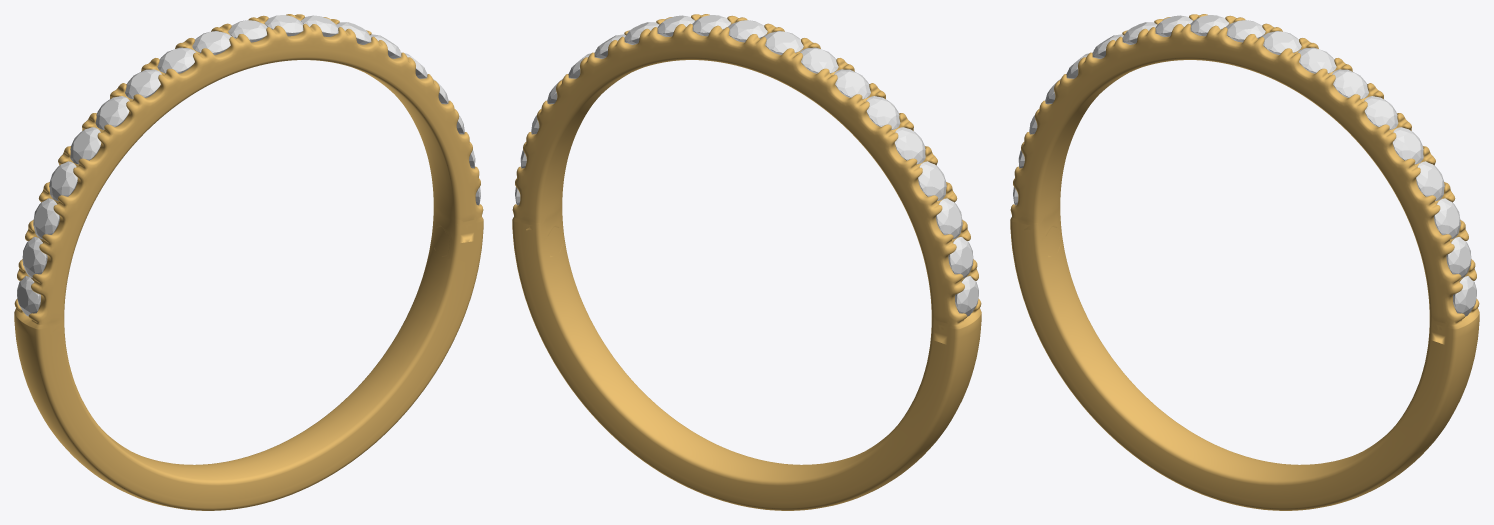
3 views of the same model, side by side, from view 1: azimuth 30°, elevation 25°; view 2: azimuth 150°, elevation 25°; view 3: azimuth 330°, elevation 25° (orthographic).
Visible parts, largest first — view 1: Shank_part_1, Small_Brilliant.006, Small_Brilliant.007, Small_Brilliant.005, Small_Brilliant.008, Small_Brilliant.004, Small_Brilliant.009, Small_Brilliant.003, Small_Brilliant.019, Small_Brilliant.002, Small_Brilliant.020, Small_Brilliant.018; view 2: Shank_part_1, Small_Brilliant.006, Small_Brilliant.007, Small_Brilliant.005, Small_Brilliant.008, Small_Brilliant.004, Small_Brilliant.009, Small_Brilliant.003, Small_Brilliant.019, Small_Brilliant.002, Small_Brilliant.020, Small_Brilliant.018; view 3: Shank_part_1, Small_Brilliant.014, Small_Brilliant.015, Small_Brilliant.013, Small_Brilliant.016, Small_Brilliant.001, Small_Brilliant.017, Small_Brilliant.011, Small_Brilliant.018, Small_Brilliant.010, Small_Brilliant.020, Small_Brilliant.019.
Boxes of the visible parts, x1=… form: Shank_part_1: x1=14, y1=14, x2=483, y2=510; Small_Brilliant.006: x1=70, y1=127, x2=101, y2=164; Small_Brilliant.007: x1=95, y1=96, x2=129, y2=129; Small_Brilliant.005: x1=49, y1=161, x2=77, y2=200; Small_Brilliant.008: x1=125, y1=69, x2=161, y2=99; Small_Brilliant.004: x1=33, y1=198, x2=59, y2=239; Small_Brilliant.009: x1=157, y1=47, x2=195, y2=73; Small_Brilliant.003: x1=22, y1=237, x2=47, y2=278; Small_Brilliant.019: x1=192, y1=31, x2=231, y2=54; Small_Brilliant.002: x1=17, y1=276, x2=40, y2=316; Small_Brilliant.020: x1=228, y1=20, x2=267, y2=42; Small_Brilliant.018: x1=264, y1=15, x2=303, y2=36; Shank_part_1: x1=512, y1=14, x2=981, y2=510; Small_Brilliant.006: x1=894, y1=127, x2=925, y2=164; Small_Brilliant.007: x1=866, y1=96, x2=900, y2=129; Small_Brilliant.005: x1=918, y1=161, x2=946, y2=200; Small_Brilliant.008: x1=834, y1=69, x2=870, y2=99; Small_Brilliant.004: x1=936, y1=198, x2=962, y2=239; Small_Brilliant.009: x1=800, y1=47, x2=838, y2=73; Small_Brilliant.003: x1=948, y1=237, x2=973, y2=278; Small_Brilliant.019: x1=764, y1=31, x2=803, y2=54; Small_Brilliant.002: x1=955, y1=276, x2=978, y2=316; Small_Brilliant.020: x1=728, y1=20, x2=767, y2=42; Small_Brilliant.018: x1=692, y1=15, x2=731, y2=36; Shank_part_1: x1=1010, y1=14, x2=1479, y2=510; Small_Brilliant.014: x1=1392, y1=127, x2=1423, y2=164; Small_Brilliant.015: x1=1364, y1=96, x2=1398, y2=129; Small_Brilliant.013: x1=1416, y1=161, x2=1444, y2=200; Small_Brilliant.016: x1=1332, y1=69, x2=1368, y2=99; Small_Brilliant.001: x1=1434, y1=198, x2=1460, y2=239; Small_Brilliant.017: x1=1298, y1=47, x2=1336, y2=73; Small_Brilliant.011: x1=1446, y1=237, x2=1471, y2=278; Small_Brilliant.018: x1=1262, y1=31, x2=1301, y2=54; Small_Brilliant.010: x1=1453, y1=276, x2=1476, y2=316; Small_Brilliant.020: x1=1226, y1=20, x2=1265, y2=42; Small_Brilliant.019: x1=1190, y1=15, x2=1229, y2=36.
Bounding box in the file's own units: 15.81 × 15.81 × 1.5.
